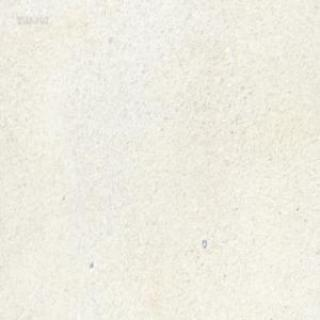Washertrack_idkeyframe: (201, 238, 207, 248)
